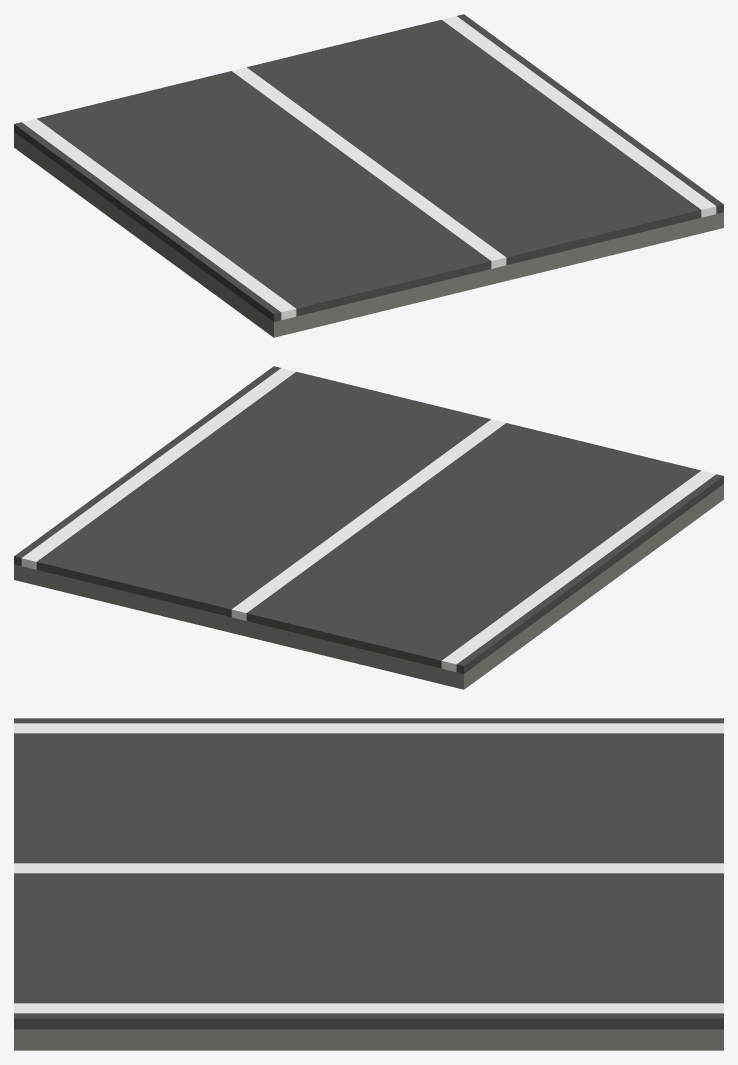
Rendered from solid-road.glb.
3 views of the same model, one above another, from view 1: azimuth 30°, elevation 25°; view 2: azimuth 150°, elevation 25°; view 3: azimuth 270°, elevation 25° (orthographic). The views are drawn at different scales.
Parts seen in each view (by area): view 1: solid; view 2: solid; view 3: solid.
Part boxes in pixels (<box>): solid: <box>14,14,723,337</box>; solid: <box>14,366,723,689</box>; solid: <box>14,718,723,1050</box>.
Size of the model in its own units: 1 by 0.05 by 1.
1 material, 1 textured.
